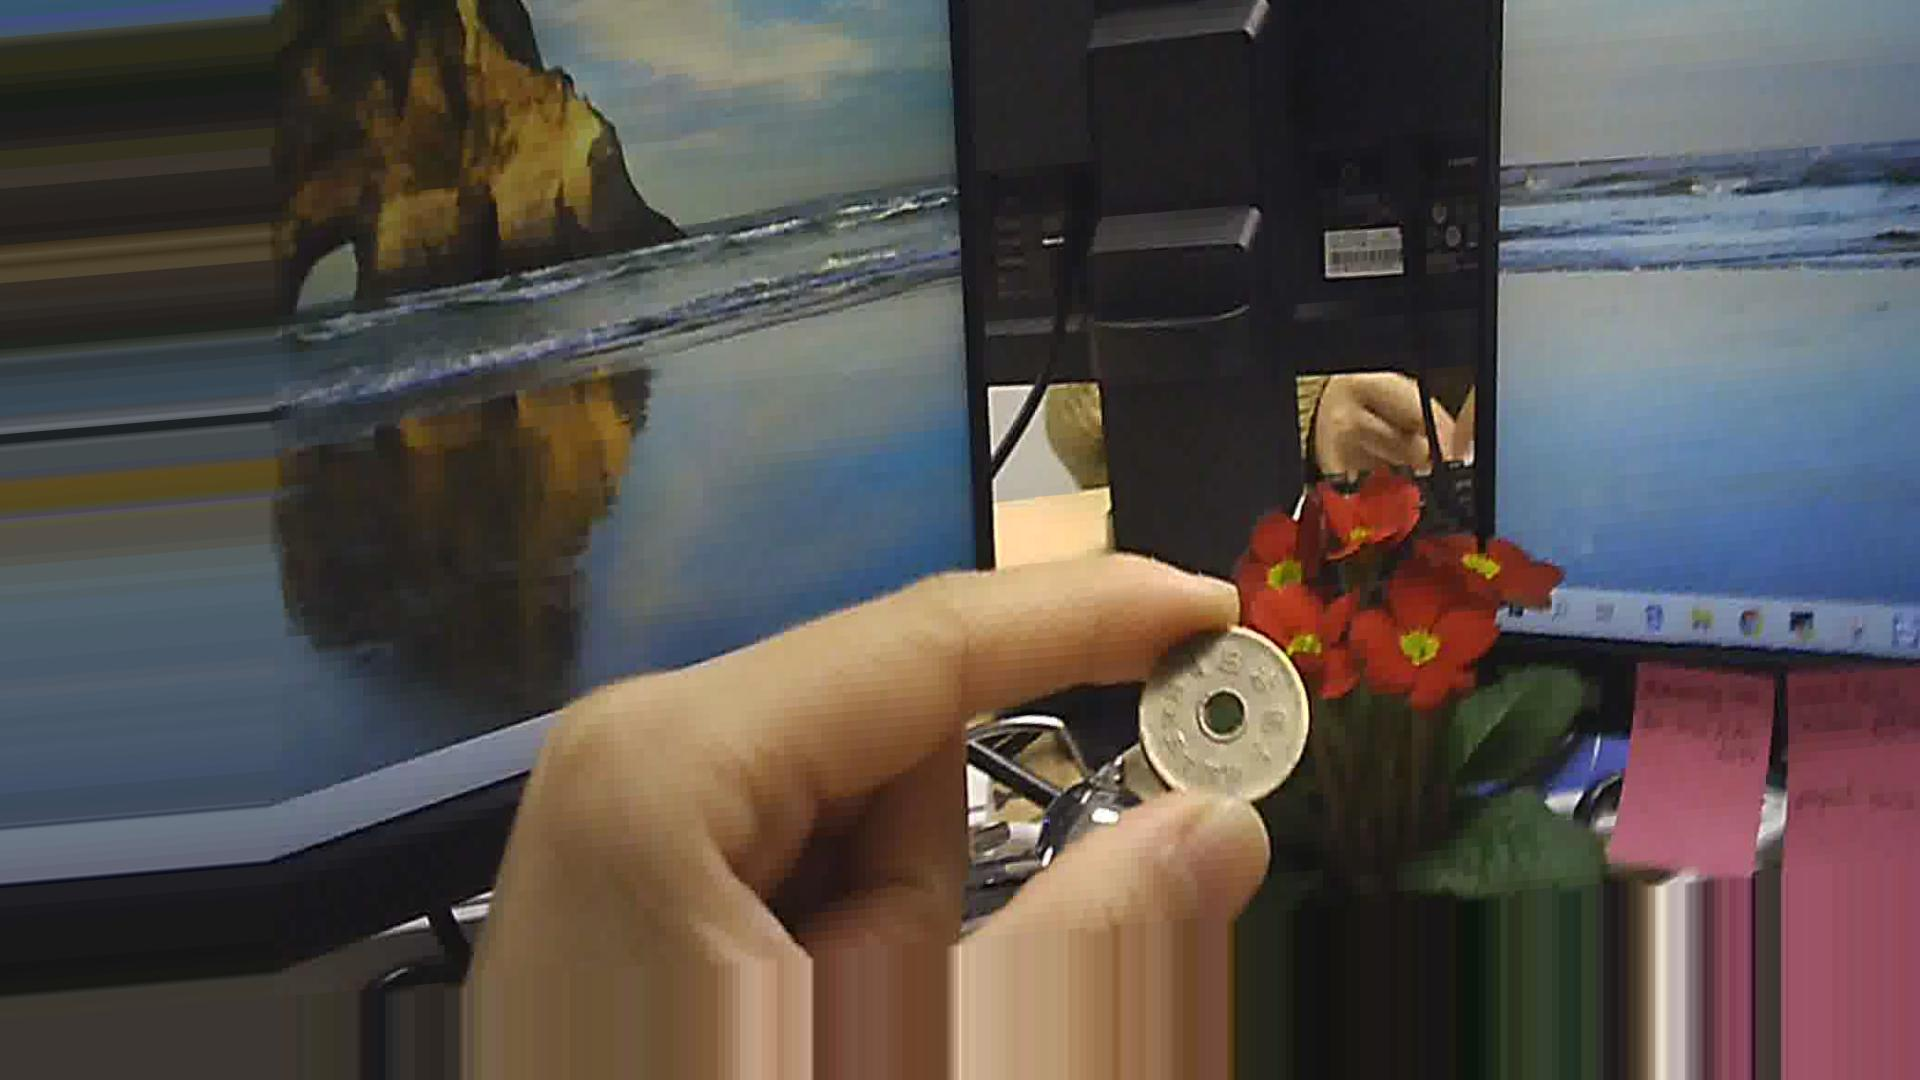5 Yen: (1121, 624, 1321, 816)
